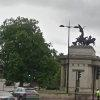Statue: (52, 16, 100, 59)
